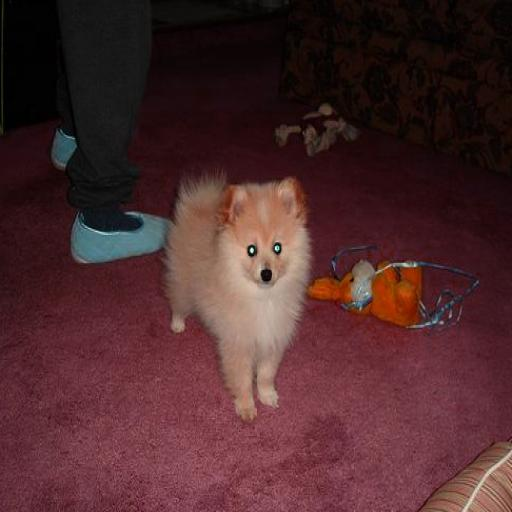dog_face: (217, 178, 312, 290)
